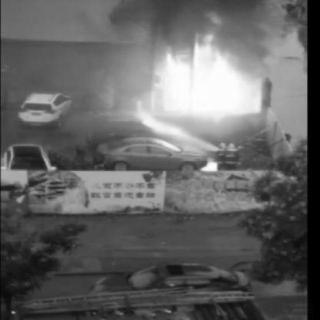Fire: (131, 41, 267, 122)
